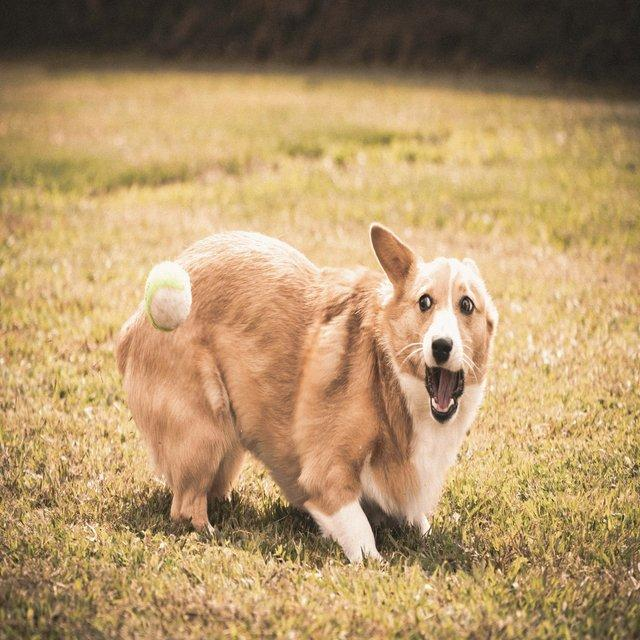corgi: (114, 221, 499, 568)
